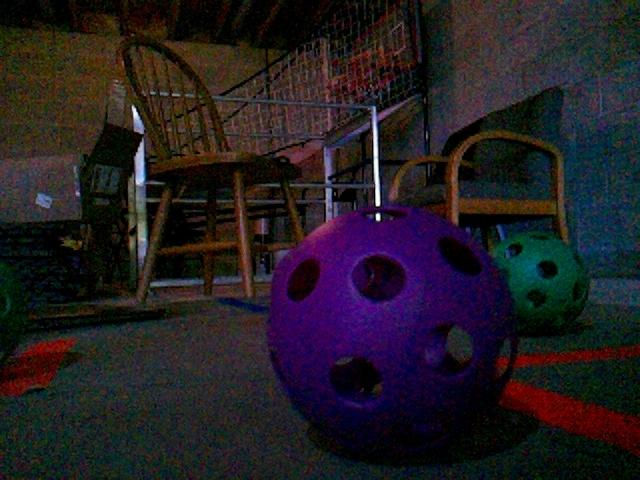Green: (485, 231, 590, 333), (1, 256, 32, 371)
Purple: (263, 209, 514, 458)
